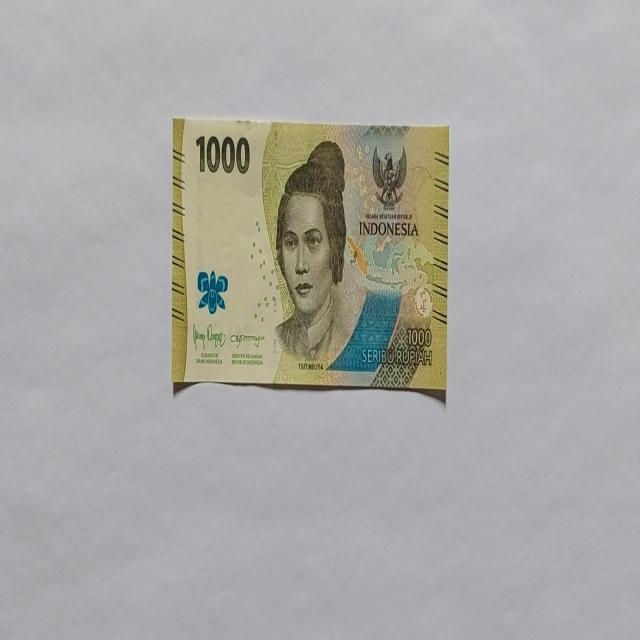seribu rupiah kertas: (170, 116, 450, 400)
